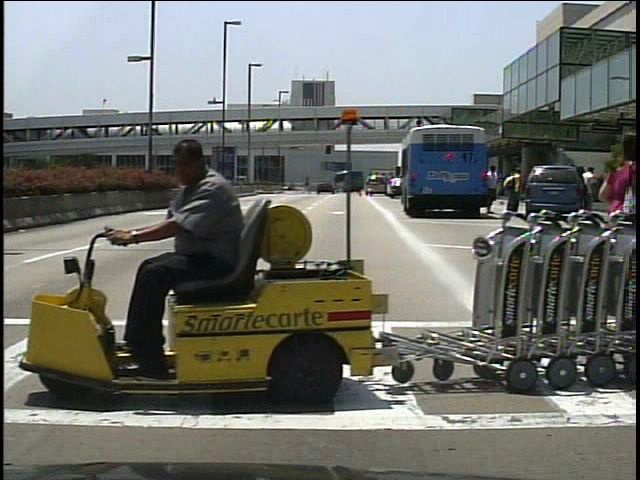person: (130, 136, 251, 376), (595, 119, 637, 350), (481, 163, 502, 216), (580, 165, 601, 214), (505, 165, 524, 218)
